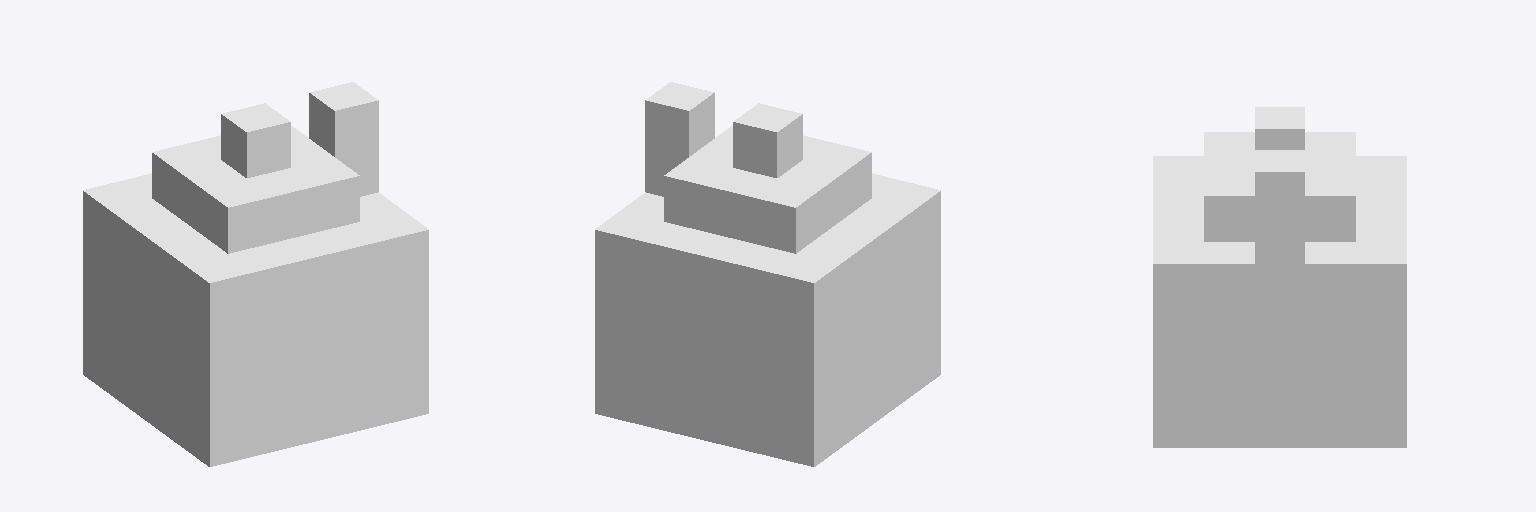
File: granade.obj
The picture shows the model from 3 angles: view 1: azimuth 30°, elevation 25°; view 2: azimuth 150°, elevation 25°; view 3: azimuth 270°, elevation 25°; orthographic projection.
Visible parts, largest first — view 1: object 1; view 2: object 1; view 3: object 1.
Part boxes in pixels (x1,y1,x2,y2): object 1: (83,82,428,466); object 1: (595,82,940,466); object 1: (1153,107,1406,447).
Bounding box in the file's own units: 0.5 × 0.6 × 0.5.